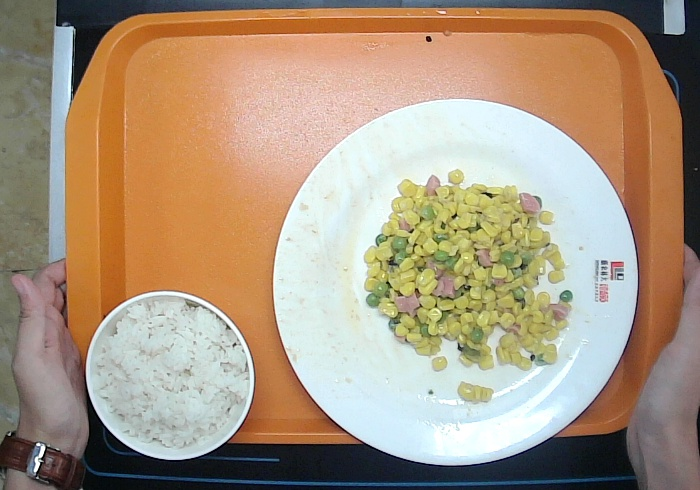ZNLD-Da_Yuan_Pan: (270, 95, 640, 470)
ZNLD-Fan_Wan: (81, 288, 254, 463)
